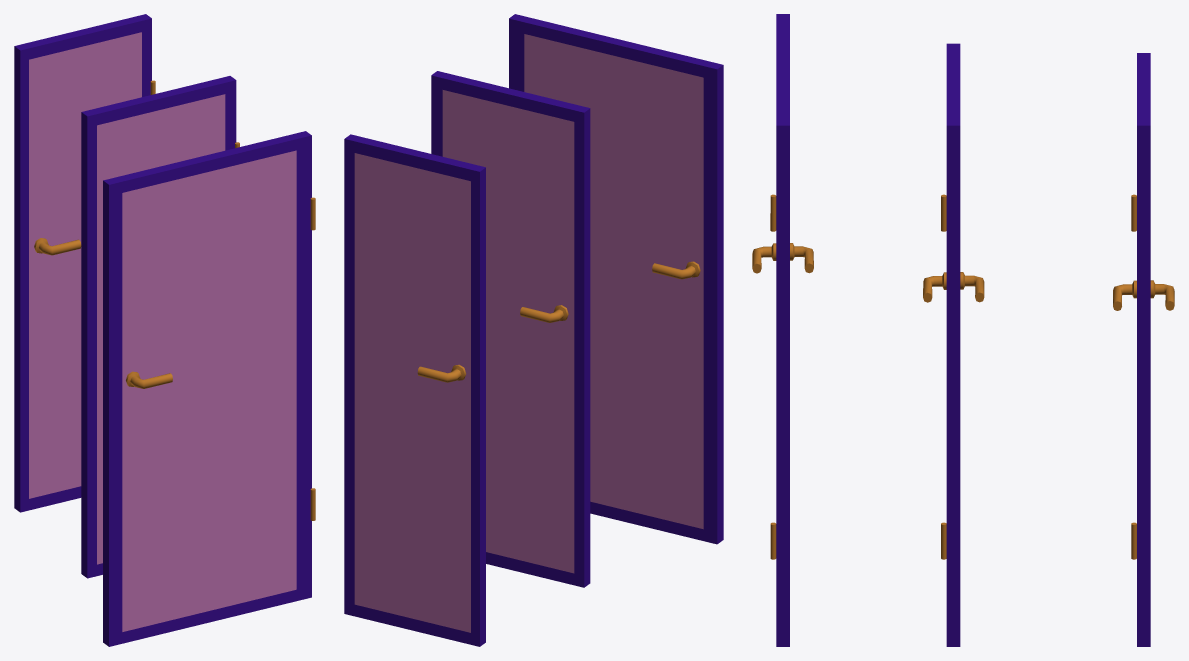
The model's file is ModuleSci_Do_doorleaf001.FBX.
3 renders of one model, left to right at view 1: azimuth 30°, elevation 25°; view 2: azimuth 150°, elevation 25°; view 3: azimuth 270°, elevation 25°, orthographic. The views are drawn at different scales.
Visible parts, largest first — view 1: ModuleSci_Do_win_door12, ModuleSci_Do_win_door20, ModuleSci_Do_doorleaf_15, ModuleSci_Do_doorleaf_19, ModuleSci_Do_doorleaf_14, ModuleSci_Do_win_door13; view 2: ModuleSci_Do_win_door12, ModuleSci_Do_win_door20, ModuleSci_Do_win_door13, ModuleSci_Do_doorleaf_14, ModuleSci_Do_doorleaf_15, ModuleSci_Do_doorleaf_19; view 3: ModuleSci_Do_doorleaf_19, ModuleSci_Do_doorleaf_15, ModuleSci_Do_doorleaf_14.
Part boxes in pixels (<box>): ModuleSci_Do_win_door12: <box>122,150,296,631</box>; ModuleSci_Do_win_door20: <box>29,32,141,498</box>; ModuleSci_Do_doorleaf_15: <box>103,131,315,646</box>; ModuleSci_Do_doorleaf_19: <box>81,76,239,578</box>; ModuleSci_Do_doorleaf_14: <box>14,14,155,512</box>; ModuleSci_Do_win_door13: <box>97,94,225,564</box>; ModuleSci_Do_win_door12: <box>524,34,703,529</box>; ModuleSci_Do_win_door20: <box>354,153,470,632</box>; ModuleSci_Do_win_door13: <box>442,90,574,573</box>; ModuleSci_Do_doorleaf_14: <box>344,134,485,646</box>; ModuleSci_Do_doorleaf_15: <box>509,14,723,544</box>; ModuleSci_Do_doorleaf_19: <box>431,71,590,587</box>; ModuleSci_Do_doorleaf_19: <box>941,43,960,646</box>; ModuleSci_Do_doorleaf_15: <box>770,14,789,646</box>; ModuleSci_Do_doorleaf_14: <box>1131,53,1150,646</box>.
Bounding box in the file's own units: 32.04 × 69.03 × 50.68.
